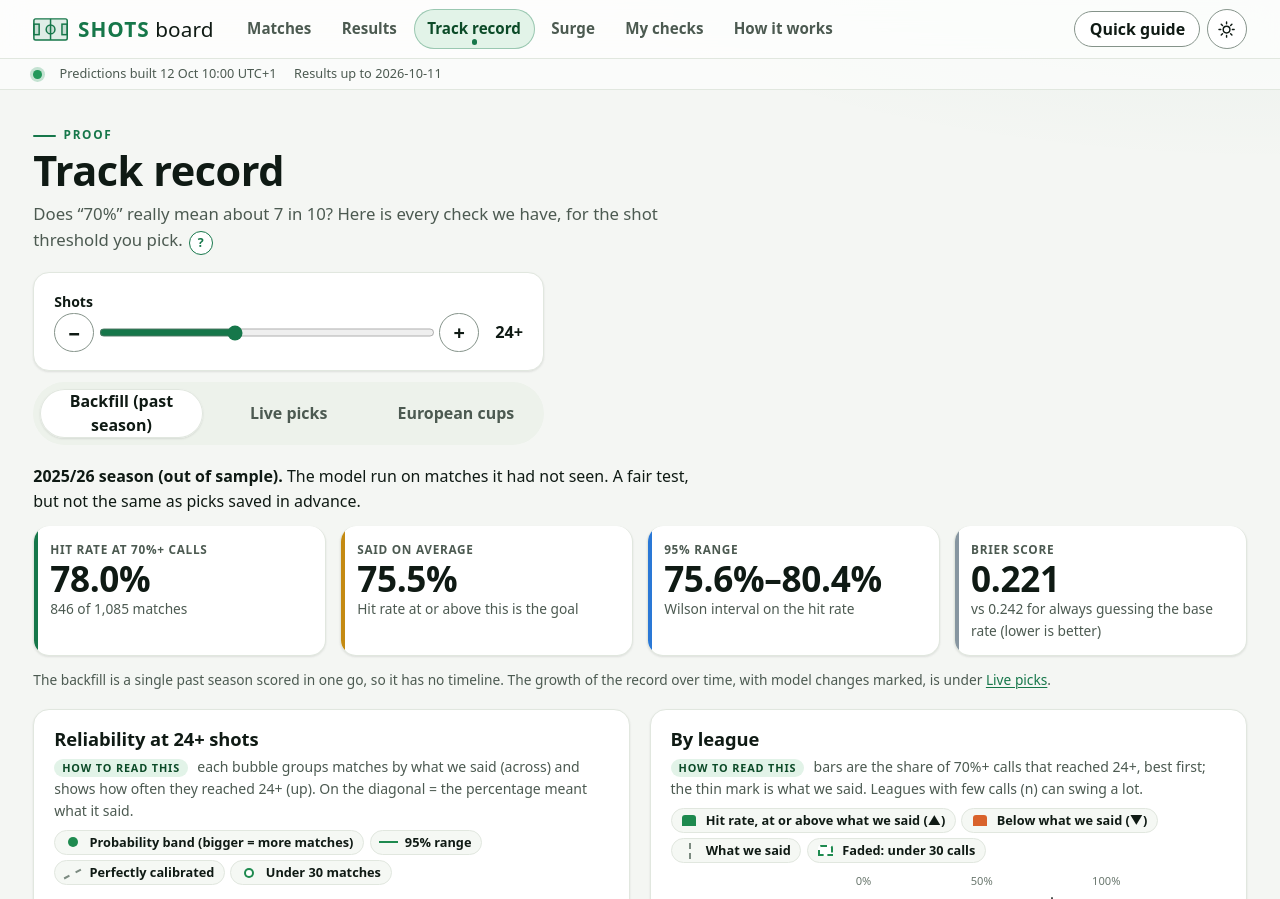
Test: pages and states › track record page: backfill numbers, then an honest empty live state
Expected: the heading "Track record" is shown, [33, 142, 284, 198]
Expected: the text "Hit rate at 70%+ calls" is shown, [50, 541, 208, 557]
What coordinates should you click on to do the following:
click the tab "Live picks"
I would click on:
 (289, 414)
Its box is [207, 389, 370, 438].
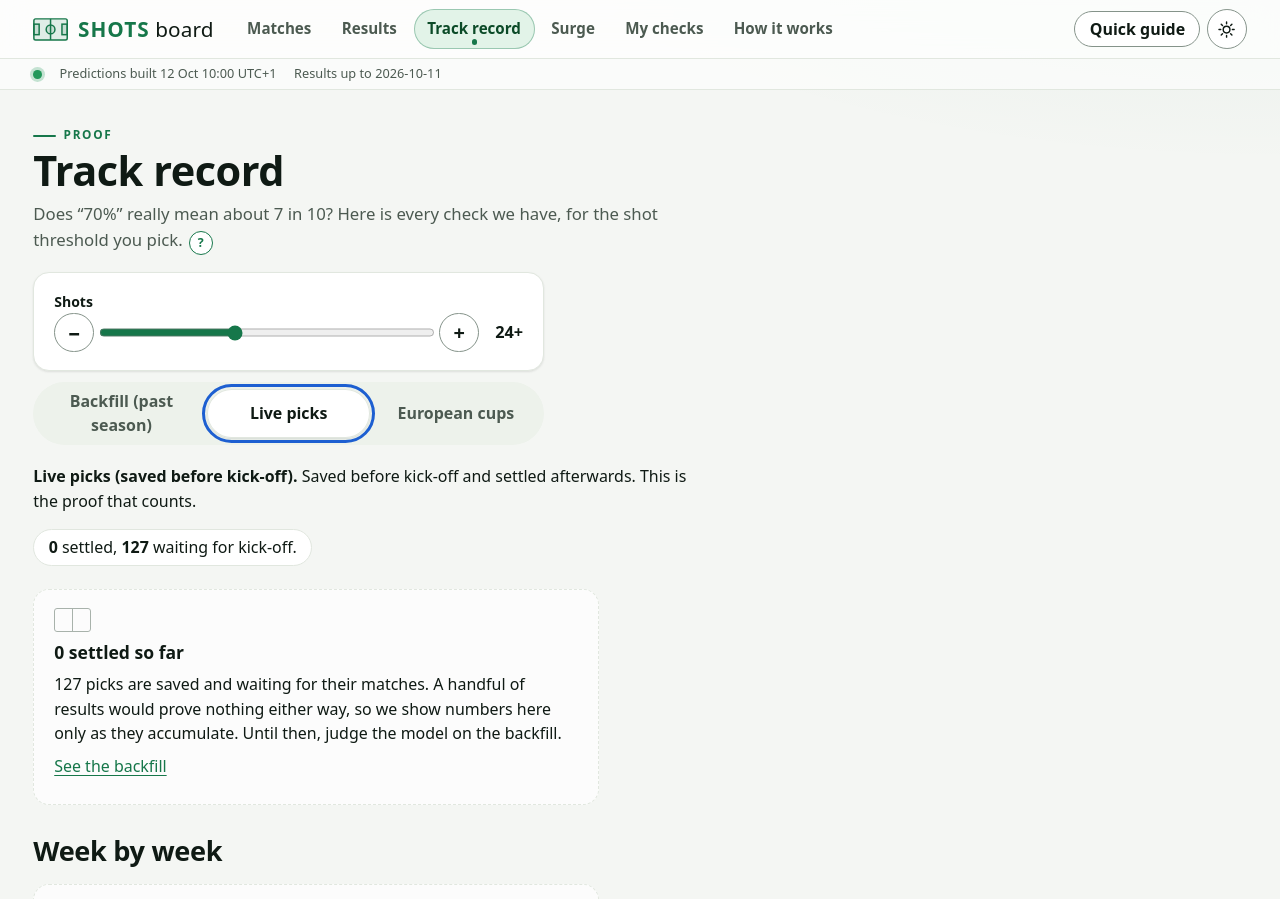
Result: the heading "0 settled so far" is shown at [54, 640, 184, 664]
